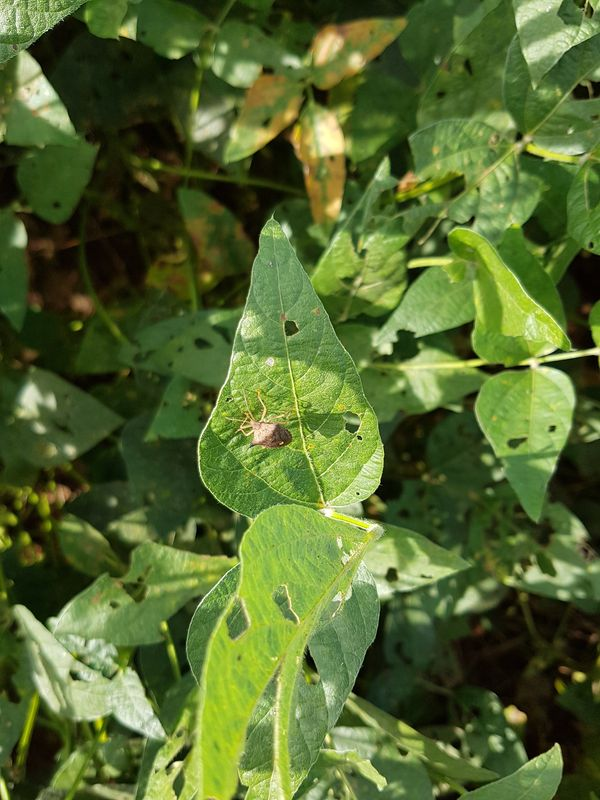Euschistus_heros_adulto: (221, 386, 301, 463)
